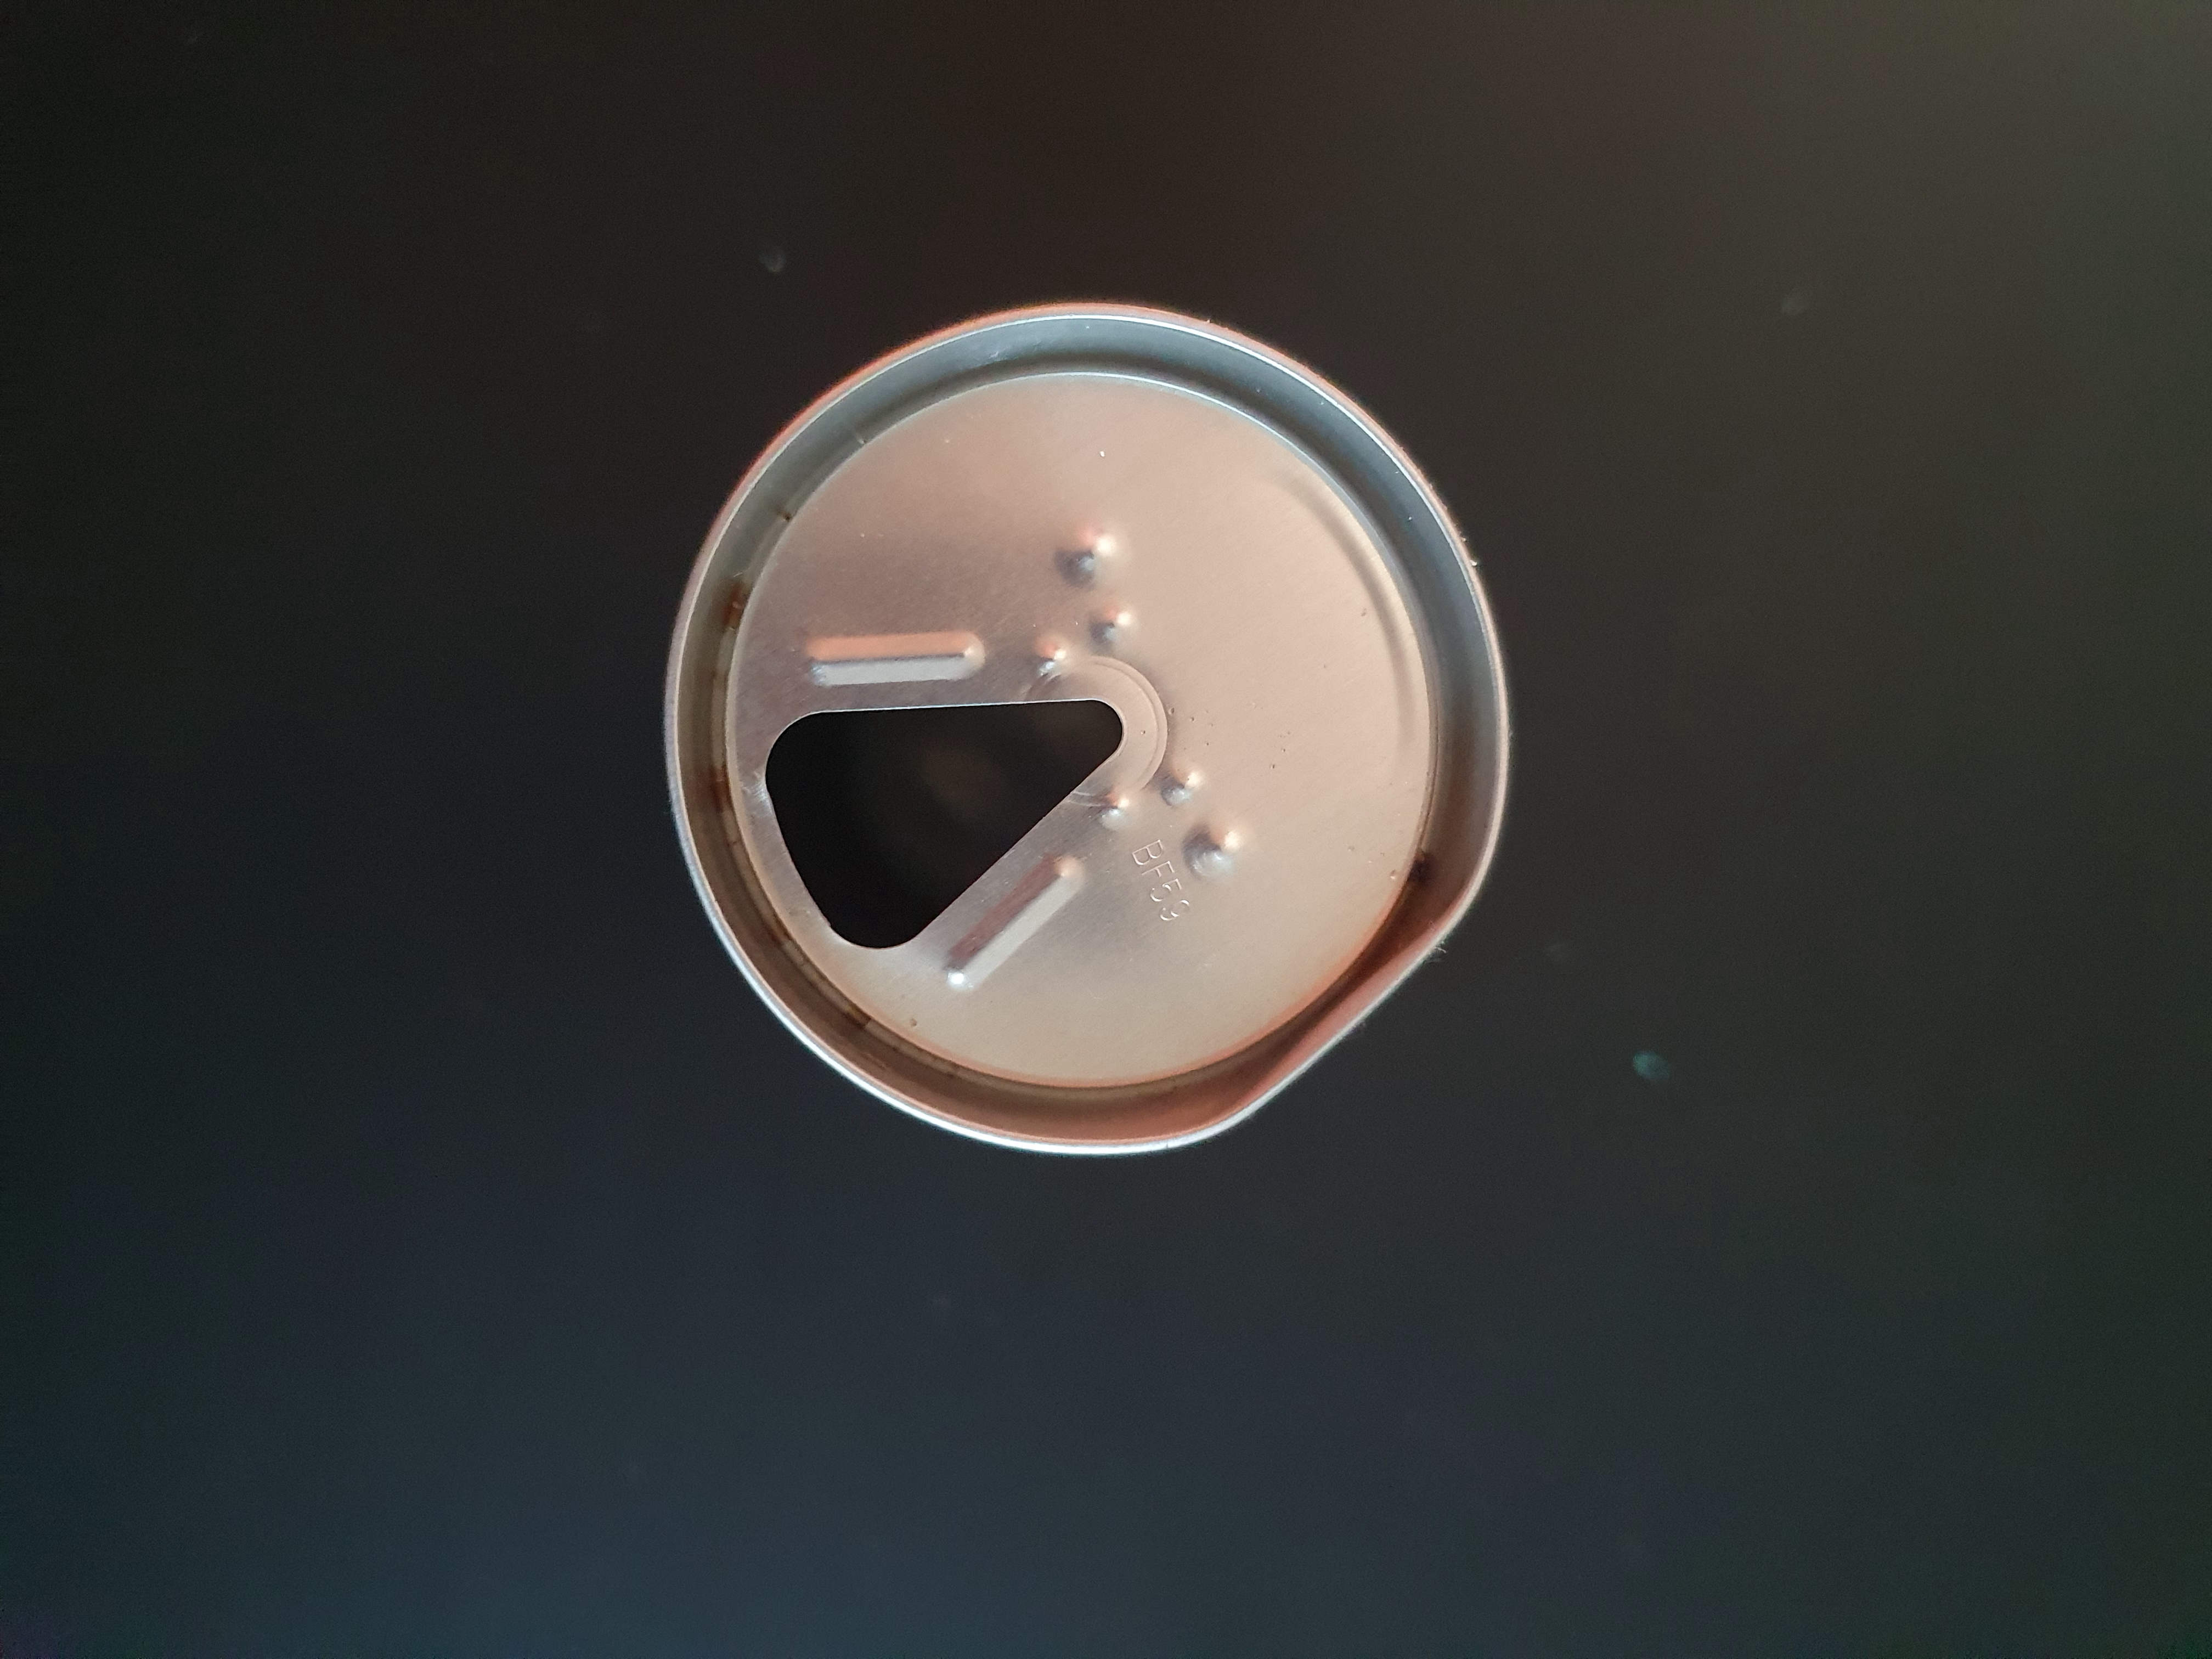metal: (641, 239, 1550, 1227)
